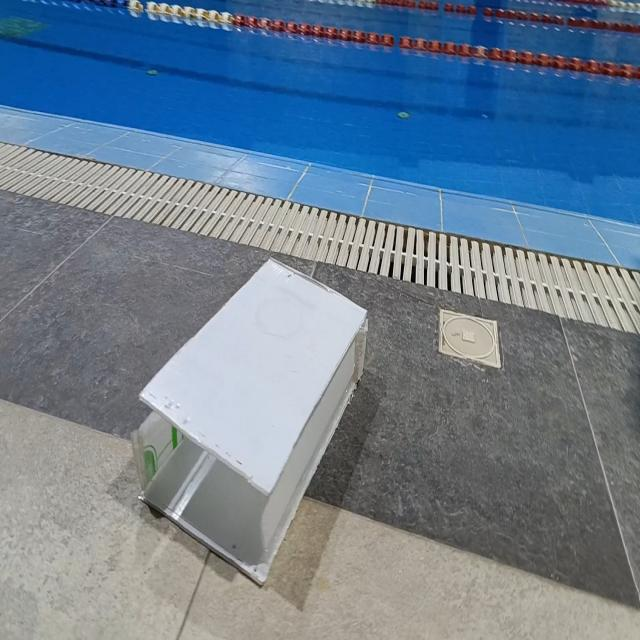Cuboid: (131, 254, 369, 586)
